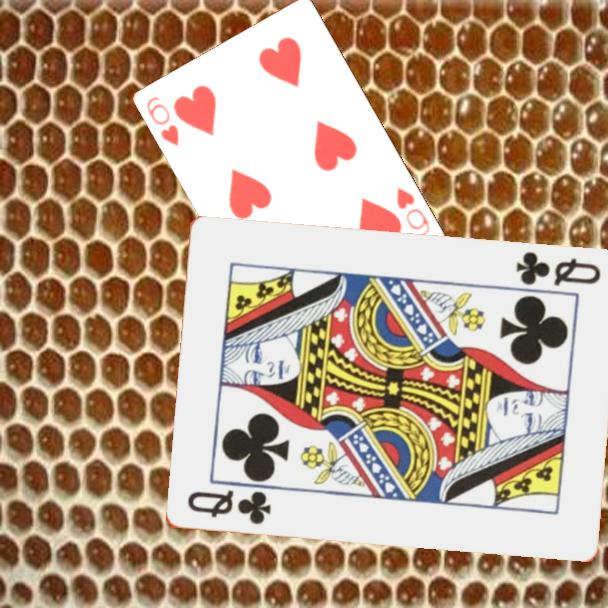c12: (512, 248, 603, 289), (183, 487, 273, 528)
h06: (393, 184, 433, 241), (143, 93, 182, 149)
